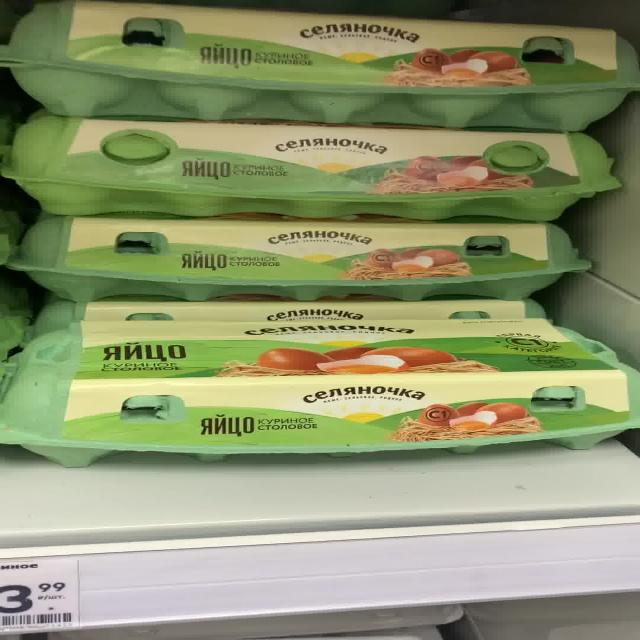egg box: (12, 316, 635, 463), (4, 4, 634, 132), (5, 110, 620, 224), (16, 209, 596, 301)
